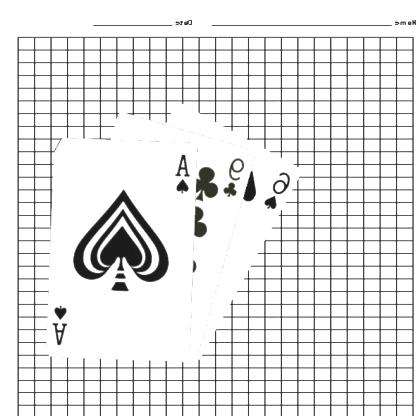6S: (263, 168, 295, 211)
9C: (222, 154, 248, 199)
AS: (52, 302, 71, 346), (175, 151, 194, 194)
